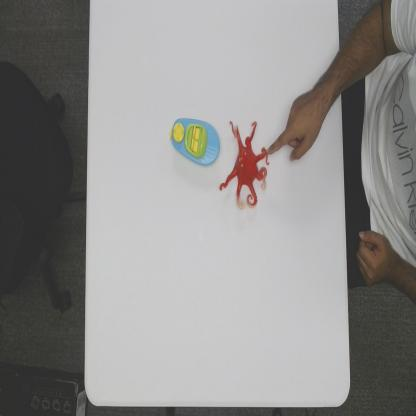Boat: (169, 114, 221, 168)
Hand: (268, 86, 323, 164)
Octopus: (218, 118, 271, 212)
